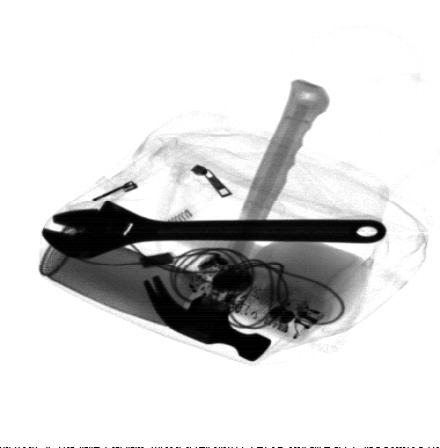Hammer: (143, 78, 332, 363)
Wrench: (41, 200, 387, 259)
